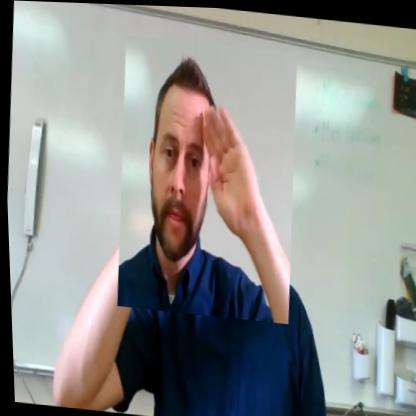Hello: (107, 34, 305, 323)
